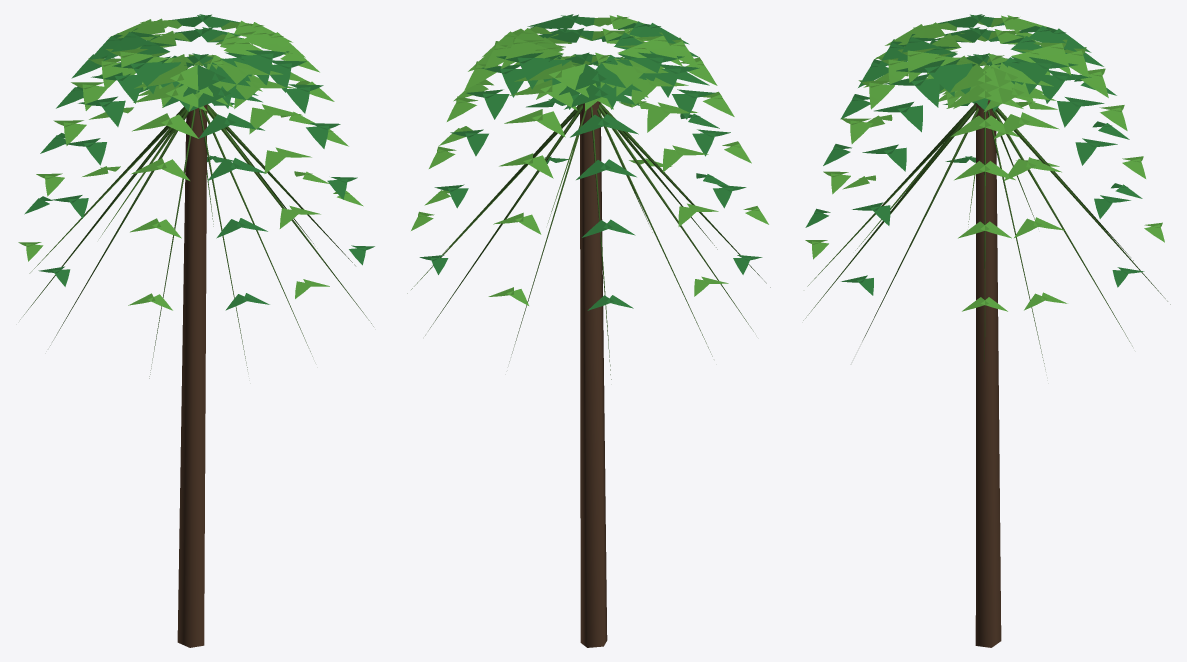
The model's file is plant_tree-fern-a.glb.
3 renders of one model, left to right at view 1: azimuth 30°, elevation 25°; view 2: azimuth 150°, elevation 25°; view 3: azimuth 270°, elevation 25°, orthographic.
Visible parts, largest first — view 1: plant_tree-fern-a; view 2: plant_tree-fern-a; view 3: plant_tree-fern-a.
Boxes of the visible parts, x1,y1,x2,y2 form: plant_tree-fern-a: (18, 14, 374, 647); plant_tree-fern-a: (407, 14, 770, 647); plant_tree-fern-a: (803, 14, 1170, 647).
Size of the model in its own units: 0.9109 by 1.6 by 0.905.
